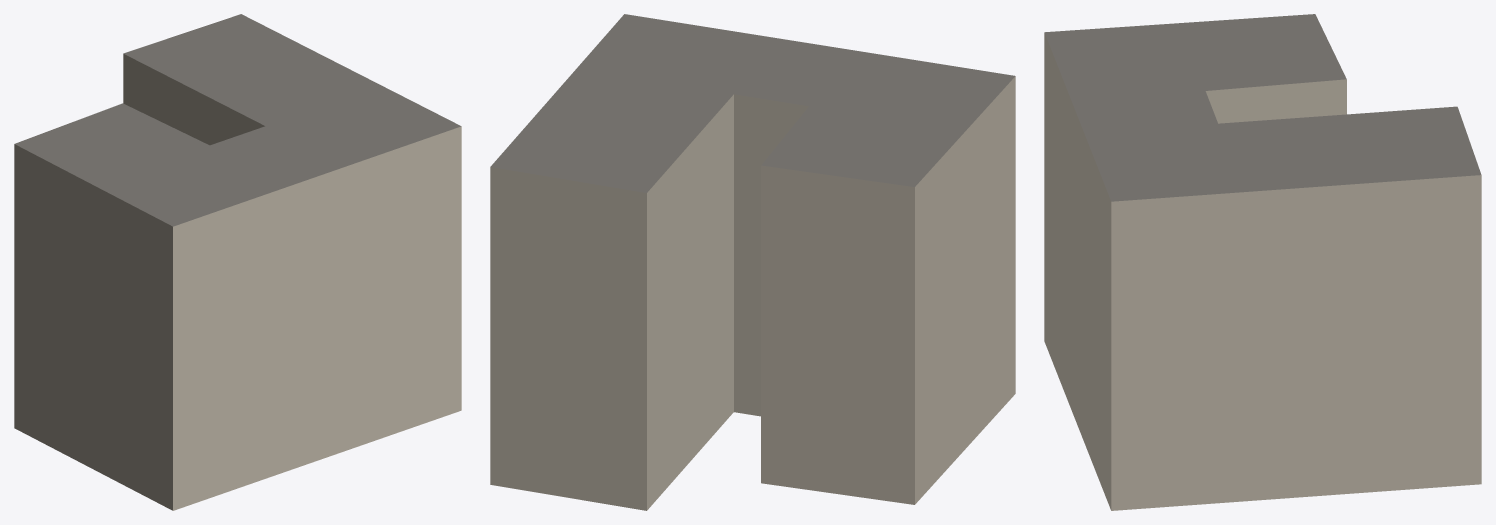
3 renders of one model, left to right at view 1: azimuth 30°, elevation 25°; view 2: azimuth 150°, elevation 25°; view 3: azimuth 270°, elevation 25°, orthographic. The views are drawn at different scales.
Parts seen in each view (by area): view 1: HP-w505643615; view 2: HP-w505643615; view 3: HP-w505643615.
Part boxes in pixels (x1,y1,x2,y2): HP-w505643615: [14, 14, 461, 510]; HP-w505643615: [490, 14, 1015, 510]; HP-w505643615: [1044, 14, 1481, 510].
Size of the model in its own units: 19.52 by 15 by 19.21.
